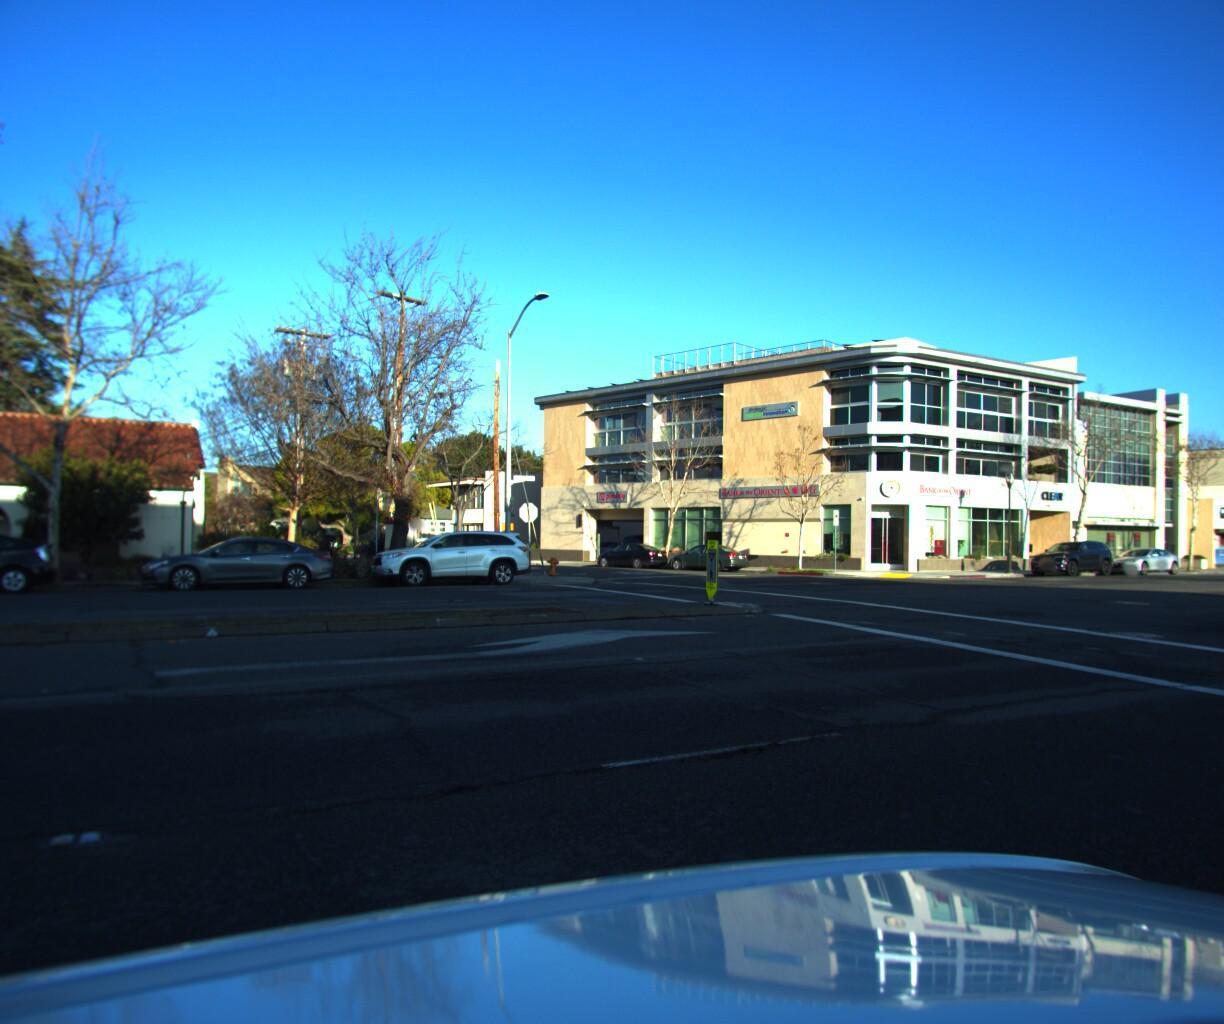car: (134, 532, 344, 599), (360, 522, 541, 591), (0, 530, 64, 608), (1017, 532, 1115, 573), (664, 537, 751, 571), (1093, 539, 1178, 573), (590, 536, 671, 567), (1220, 535, 1224, 652)
